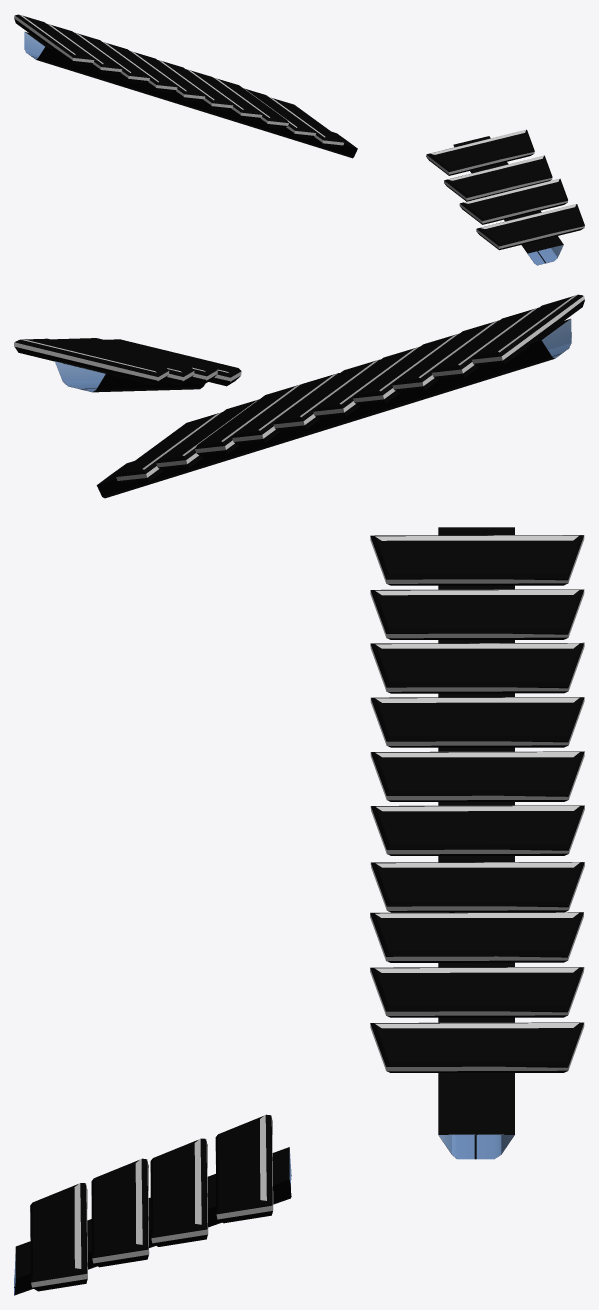
The model's file is Rooms_Paradise_PlatformStairs04_Art.fbx.
The picture shows the model from 3 angles, top to bottom: view 1: azimuth 30°, elevation 25°; view 2: azimuth 150°, elevation 25°; view 3: azimuth 270°, elevation 25°; orthographic projection. The views are drawn at different scales.
Visible parts, largest first — view 1: Rooms_Paradise_PlatformStairs04_Outliner, Rooms_Paradise_PlatformStairs04_Shadows, Rooms_Paradise_PlatformStairs04_Art; view 2: Rooms_Paradise_PlatformStairs04_Outliner, Rooms_Paradise_PlatformStairs04_Shadows, Rooms_Paradise_PlatformStairs04_Art; view 3: Rooms_Paradise_PlatformStairs04_Outliner, Rooms_Paradise_PlatformStairs04_Shadows, Rooms_Paradise_PlatformStairs04_Art.
Boxes of the visible parts, left/top/right/bottom form: Rooms_Paradise_PlatformStairs04_Outliner: left=14, top=14, right=584, bottom=265; Rooms_Paradise_PlatformStairs04_Shadows: left=14, top=14, right=584, bottom=248; Rooms_Paradise_PlatformStairs04_Art: left=24, top=31, right=563, bottom=265; Rooms_Paradise_PlatformStairs04_Outliner: left=15, top=294, right=584, bottom=498; Rooms_Paradise_PlatformStairs04_Shadows: left=14, top=295, right=584, bottom=480; Rooms_Paradise_PlatformStairs04_Art: left=55, top=319, right=571, bottom=391; Rooms_Paradise_PlatformStairs04_Outliner: left=14, top=527, right=583, bottom=1295; Rooms_Paradise_PlatformStairs04_Shadows: left=30, top=535, right=584, bottom=1287; Rooms_Paradise_PlatformStairs04_Art: left=14, top=1134, right=514, bottom=1294.
Bounding box in the file's own units: 1020 × 504 × 624.
